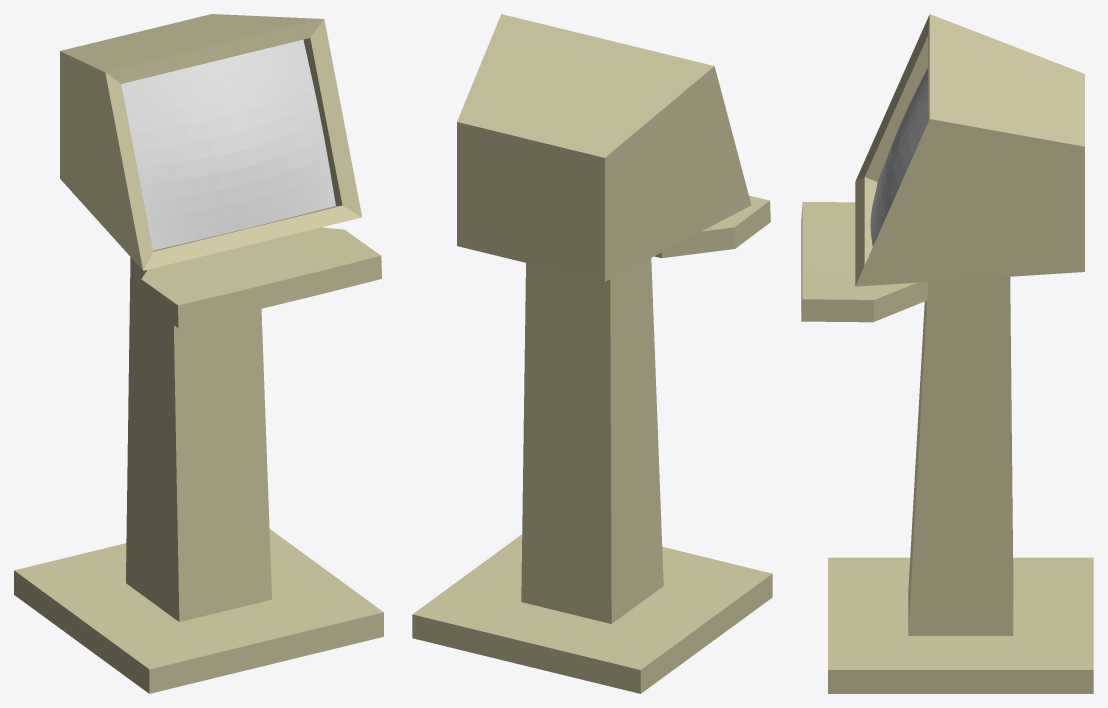
File: terminal_w_screen.glb
3 renders of one model, left to right at view 1: azimuth 30°, elevation 25°; view 2: azimuth 150°, elevation 25°; view 3: azimuth 270°, elevation 25°, orthographic. The views are drawn at different scales.
Visible parts, largest first — view 1: Cube, Plane; view 2: Cube; view 3: Cube, Plane.
Boxes of the visible parts, x1=… form: Cube: x1=14, y1=14, x2=383, y2=693; Plane: x1=121, y1=39, x2=335, y2=250; Cube: x1=412, y1=14, x2=772, y2=693; Cube: x1=801, y1=14, x2=1093, y2=693; Plane: x1=870, y1=68, x2=927, y2=246.
Bounding box in the file's own units: 2 × 4.74 × 2.2.
